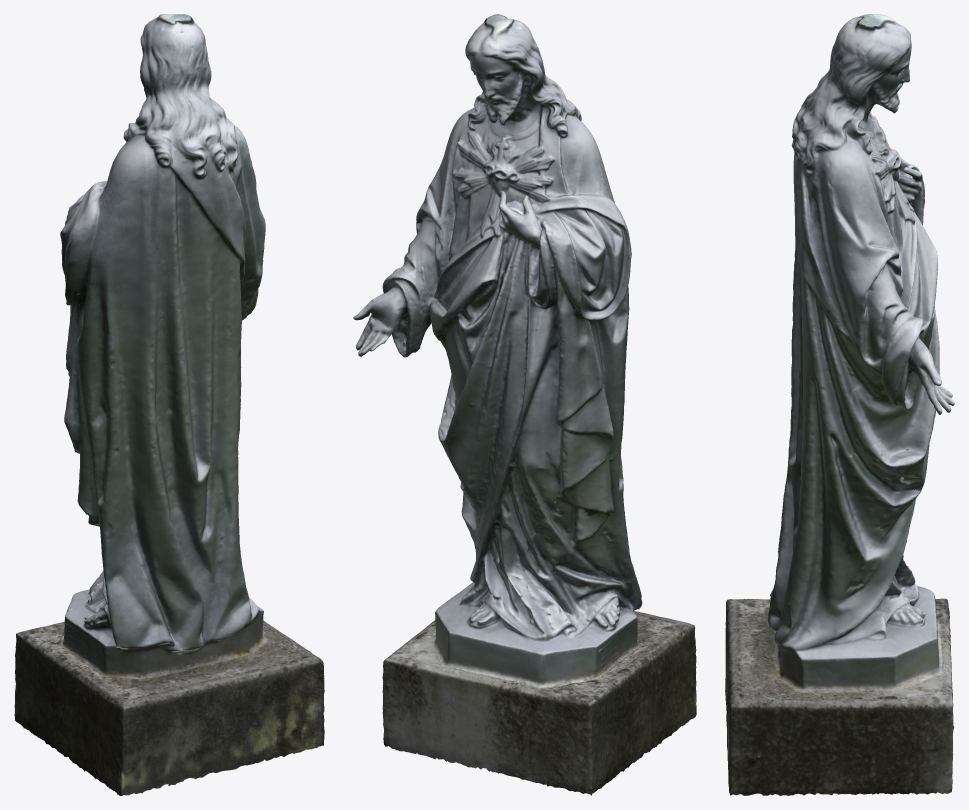
Rendered from jesus.glb.
The picture shows the model from 3 angles, left to right: view 1: azimuth 30°, elevation 25°; view 2: azimuth 150°, elevation 25°; view 3: azimuth 270°, elevation 25°; orthographic projection. The views are drawn at different scales.
Parts seen in each view (by area): view 1: Object_3, Object_4, Object_2, Object_5, Object_6; view 2: Object_5, Object_6, Object_4, Object_3, Object_2; view 3: Object_3, Object_2, Object_4, Object_5, Object_6.
Part boxes in pixels (box(x1,y1,x2,y2)): Object_3: box(15, 272, 324, 795); Object_4: box(60, 14, 257, 572); Object_2: box(16, 67, 265, 719); Object_5: box(14, 18, 224, 756); Object_6: box(61, 18, 256, 523); Object_5: box(382, 14, 641, 795); Object_6: box(353, 18, 630, 563); Object_4: box(353, 14, 631, 558); Object_3: box(382, 312, 696, 768); Object_2: box(356, 91, 643, 730); Object_3: box(725, 280, 952, 795); Object_2: box(778, 78, 954, 706); Object_4: box(782, 14, 941, 575); Object_5: box(806, 18, 954, 794); Object_6: box(817, 25, 941, 515).
Size of the model in its own units: 0.5822 by 1.65 by 0.4643.
Materials: 1 (1 with a texture image).
